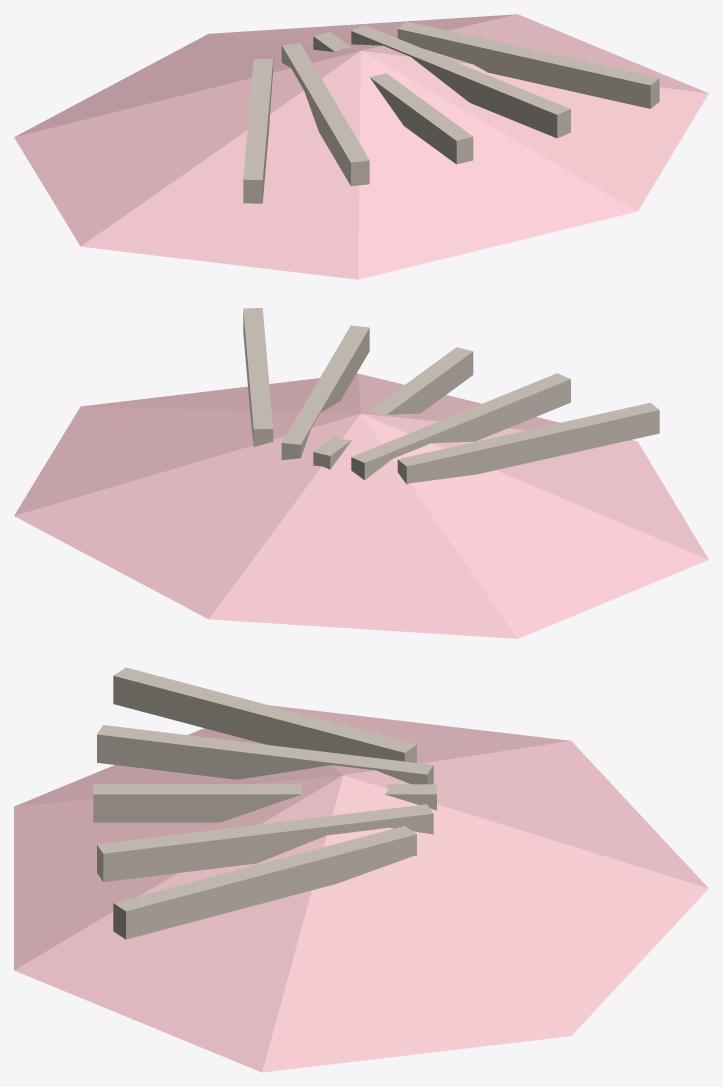
Rendered from shell_pink.glb.
The picture shows the model from 3 angles, top to bottom: view 1: azimuth 30°, elevation 25°; view 2: azimuth 150°, elevation 25°; view 3: azimuth 270°, elevation 25°; orthographic projection. The views are drawn at different scales.
Visible parts, largest first — view 1: shell_pink; view 2: shell_pink; view 3: shell_pink.
Part boxes in pixels (x1=…): shell_pink: x1=14, y1=14, x2=708, y2=279; shell_pink: x1=14, y1=308, x2=708, y2=638; shell_pink: x1=14, y1=667, x2=708, y2=1072.
Size of the model in its own units: 0.5577 by 0.08 by 0.4448.
